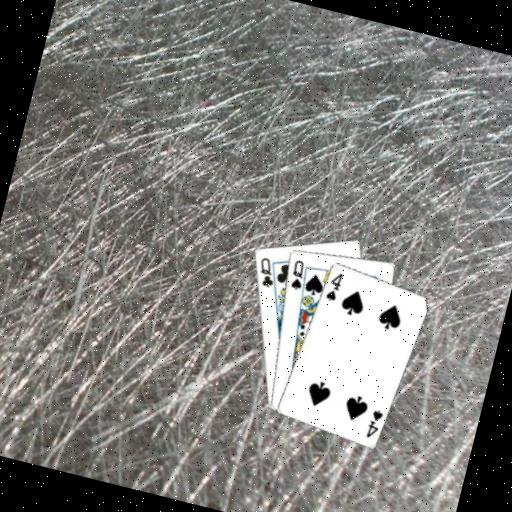4S: (321, 267, 345, 304), (362, 405, 386, 441)
QC: (251, 253, 280, 291)
QS: (285, 256, 309, 292)
